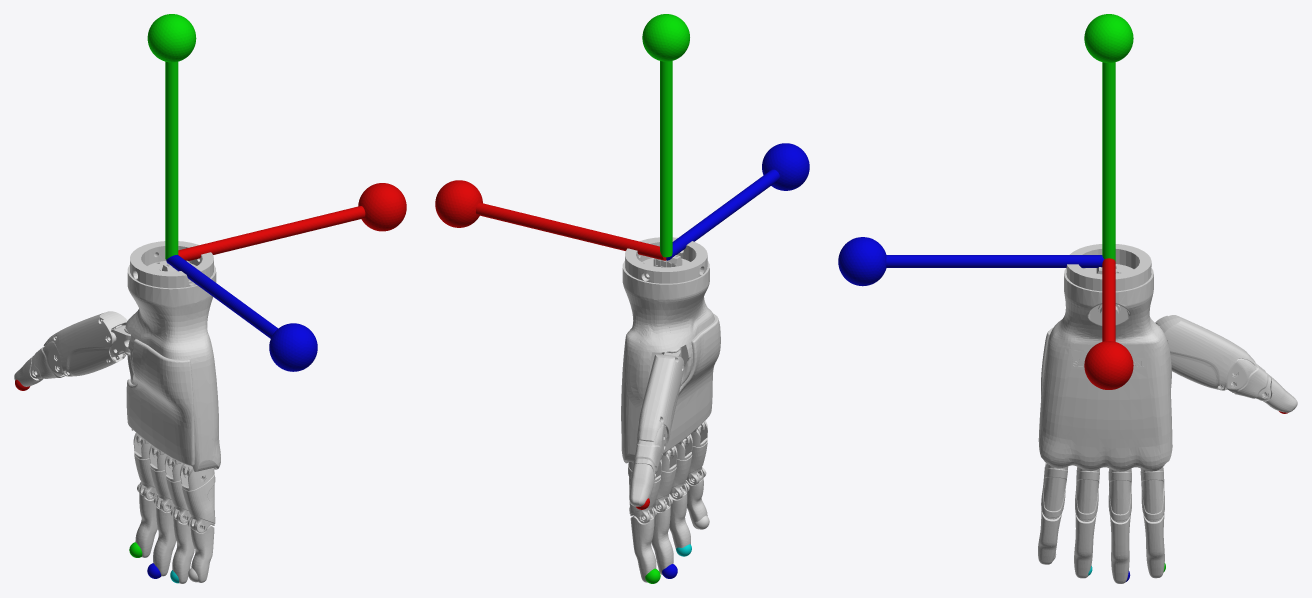
File: inspire_open.glb
3 views of the same model, side by side, from view 1: azimuth 30°, elevation 25°; view 2: azimuth 150°, elevation 25°; view 3: azimuth 270°, elevation 25° (orthographic). The views are drawn at different scales.
Parts seen in each view (by area): view 1: R_hand_base_link.STL, R_hand_base_link, Link12_R.STL, Link21_R.STL, Link18_R.STL, Link20_R.STL, Link16_R.STL, Link22_R.STL, Link13_R.STL, Link19_R.STL, Link15_R.STL, Link17_R.STL; view 2: R_hand_base_link.STL, R_hand_base_link, Link12_R.STL, Link16_R.STL, Link18_R.STL, Link13_R.STL, Link20_R.STL, Link14_R.STL, Link17_R.STL, Link19_R.STL, Link21_R.STL, Link22_R.STL (+1 smaller); view 3: R_hand_base_link.STL, R_hand_base_link, Link12_R.STL, Link13_R.STL, Link21_R.STL, Link17_R.STL, Link19_R.STL, Link15_R.STL, Link18_R.STL, Link20_R.STL, Link16_R.STL, Link22_R.STL (+1 smaller).
Part boxes in pixels (x1=…): R_hand_base_link.STL: x1=124, y1=241, x2=220, y2=479; R_hand_base_link: x1=147, y1=14, x2=406, y2=371; Link12_R.STL: x1=43, y1=311, x2=127, y2=376; Link21_R.STL: x1=180, y1=463, x2=215, y2=532; Link18_R.STL: x1=153, y1=496, x2=175, y2=576; Link20_R.STL: x1=172, y1=508, x2=194, y2=583; Link16_R.STL: x1=135, y1=484, x2=157, y2=557; Link22_R.STL: x1=190, y1=518, x2=214, y2=582; Link13_R.STL: x1=30, y1=341, x2=64, y2=378; Link19_R.STL: x1=165, y1=455, x2=190, y2=523; Link15_R.STL: x1=133, y1=433, x2=157, y2=499; Link17_R.STL: x1=149, y1=445, x2=174, y2=512; R_hand_base_link.STL: x1=621, y1=237, x2=720, y2=466; R_hand_base_link: x1=435, y1=14, x2=809, y2=260; Link12_R.STL: x1=638, y1=354, x2=684, y2=445; Link16_R.STL: x1=630, y1=508, x2=656, y2=582; Link18_R.STL: x1=651, y1=497, x2=673, y2=574; Link13_R.STL: x1=633, y1=424, x2=667, y2=479; Link20_R.STL: x1=669, y1=484, x2=690, y2=555; Link14_R.STL: x1=629, y1=463, x2=654, y2=506; Link17_R.STL: x1=653, y1=446, x2=677, y2=512; Link19_R.STL: x1=669, y1=434, x2=692, y2=499; Link21_R.STL: x1=686, y1=420, x2=707, y2=485; Link22_R.STL: x1=685, y1=469, x2=707, y2=529; R_hand_base_link.STL: x1=1038, y1=244, x2=1172, y2=471; R_hand_base_link: x1=838, y1=14, x2=1133, y2=389; Link12_R.STL: x1=1155, y1=315, x2=1255, y2=390; Link13_R.STL: x1=1225, y1=358, x2=1271, y2=400; Link21_R.STL: x1=1041, y1=463, x2=1068, y2=519; Link17_R.STL: x1=1108, y1=468, x2=1131, y2=522; Link19_R.STL: x1=1075, y1=466, x2=1099, y2=521; Link15_R.STL: x1=1140, y1=466, x2=1164, y2=521; Link18_R.STL: x1=1110, y1=516, x2=1130, y2=583; Link20_R.STL: x1=1074, y1=515, x2=1096, y2=578; Link16_R.STL: x1=1143, y1=515, x2=1164, y2=578; Link22_R.STL: x1=1038, y1=512, x2=1061, y2=564.
Size of the model in its own units: 0.2142 by 0.3841 by 0.2801.
